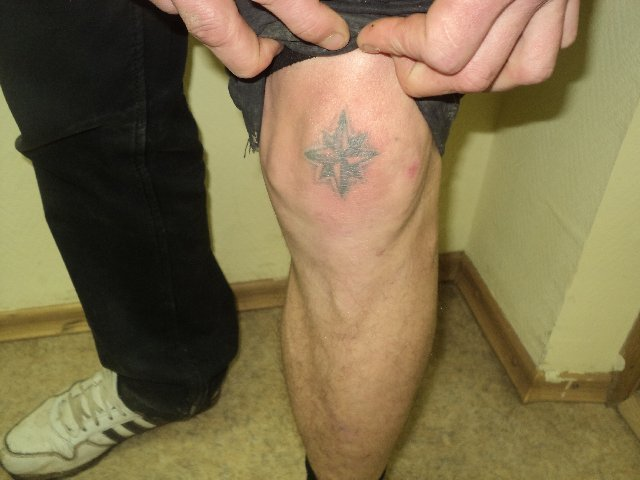tatu4_zvezda: (302, 110, 379, 202)
